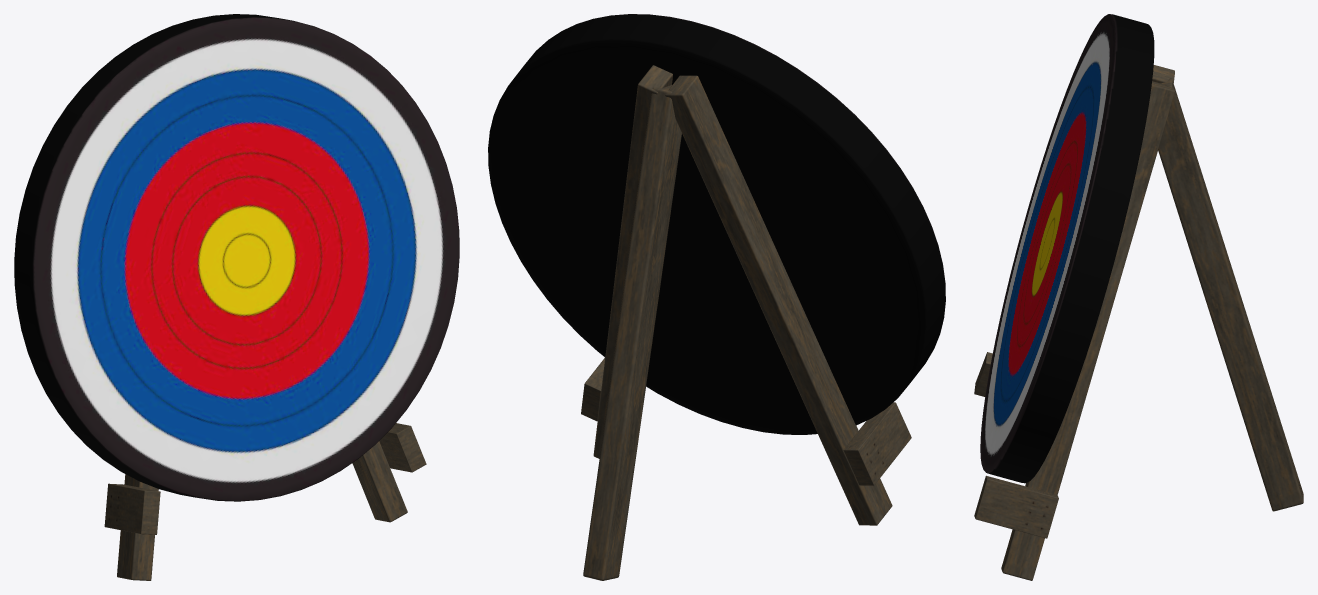
The model's file is Target_001.fbx.
3 renders of one model, left to right at view 1: azimuth 30°, elevation 25°; view 2: azimuth 150°, elevation 25°; view 3: azimuth 270°, elevation 25°, orthographic. The views are drawn at different scales.
Parts seen in each view (by area): view 1: Cylinder.001; view 2: Cylinder.001; view 3: Cylinder.001.
Part boxes in pixels (x1,y1,x2,y2): Cylinder.001: (14, 14, 459, 580); Cylinder.001: (488, 14, 945, 580); Cylinder.001: (974, 14, 1303, 580).
Bounding box in the file's own units: 127 × 142 × 88.03.
Materials: 1 (1 with a texture image).
